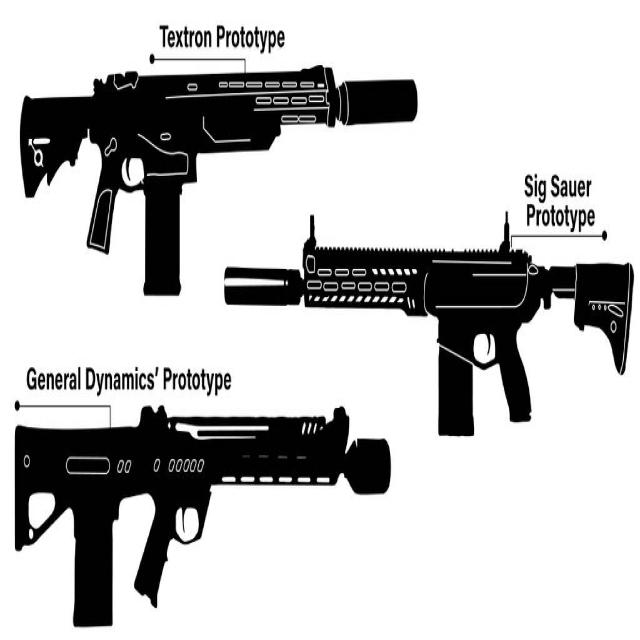Rifle: (21, 66, 419, 298), (224, 222, 636, 439), (16, 407, 391, 631)
